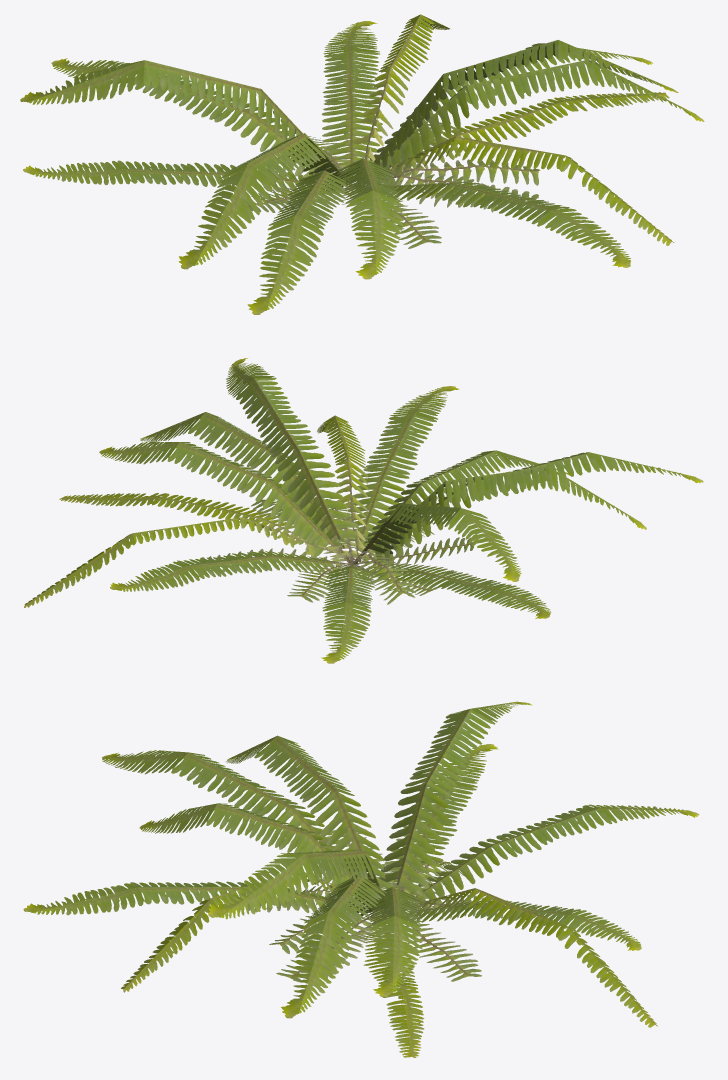
The model's file is fern1.fbx.
3 renders of one model, top to bottom at view 1: azimuth 30°, elevation 25°; view 2: azimuth 150°, elevation 25°; view 3: azimuth 270°, elevation 25°, orthographic. The views are drawn at different scales.
Visible parts, largest first — view 1: branch1.005; view 2: branch1.005; view 3: branch1.005.
Part boxes in pixels (x1,y1,x2,y2): branch1.005: (20, 14, 704, 314); branch1.005: (24, 358, 703, 663); branch1.005: (23, 701, 699, 1057).
Size of the model in its own units: 136 by 36.03 by 141.
1 material, 1 textured.
